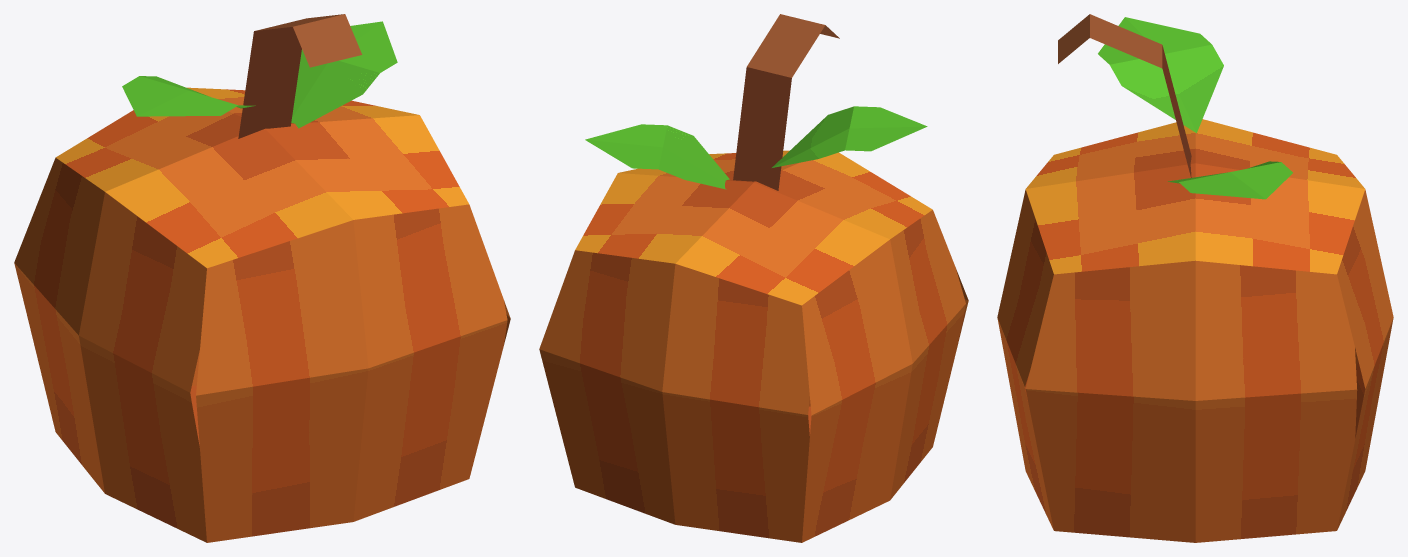
The model's file is Pumpkin_001-4.fbx.
The picture shows the model from 3 angles, left to right: view 1: azimuth 30°, elevation 25°; view 2: azimuth 150°, elevation 25°; view 3: azimuth 270°, elevation 25°; orthographic projection. The views are drawn at different scales.
Visible parts, largest first — view 1: Pumpkin_001-4; view 2: Pumpkin_001-4; view 3: Pumpkin_001-4.
Part boxes in pixels (left/top/right/bottom): Pumpkin_001-4: left=14, top=14, right=510, bottom=542; Pumpkin_001-4: left=539, top=14, right=968, bottom=542; Pumpkin_001-4: left=997, top=14, right=1393, bottom=542.
Bounding box in the file's own units: 43.75 × 54.23 × 43.75.
1 material, 1 textured.
